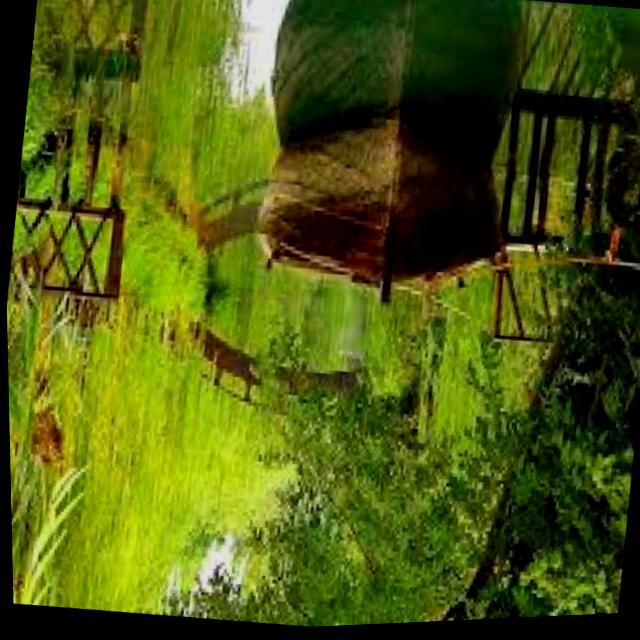ship2: (255, 103, 500, 303)
